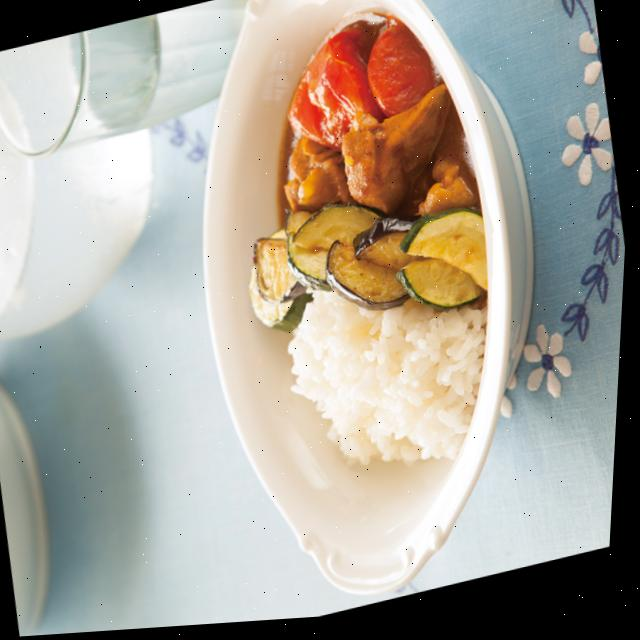Wet: (200, 2, 535, 506)
